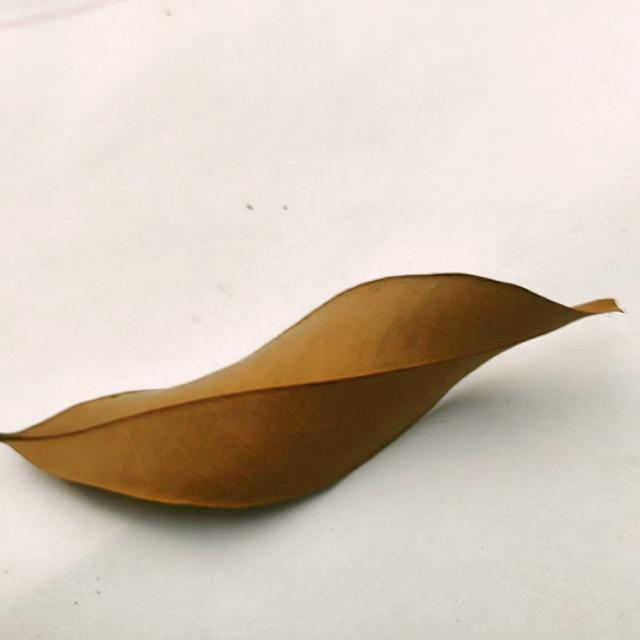Dry_Leaf-Lychee: (0, 273, 622, 513)
